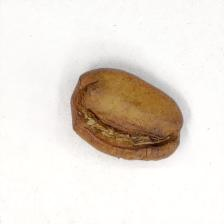NG: (79, 72, 178, 155)
